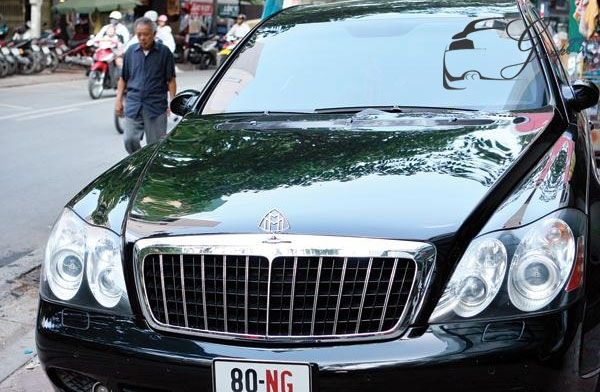plate: (207, 354, 314, 392)
